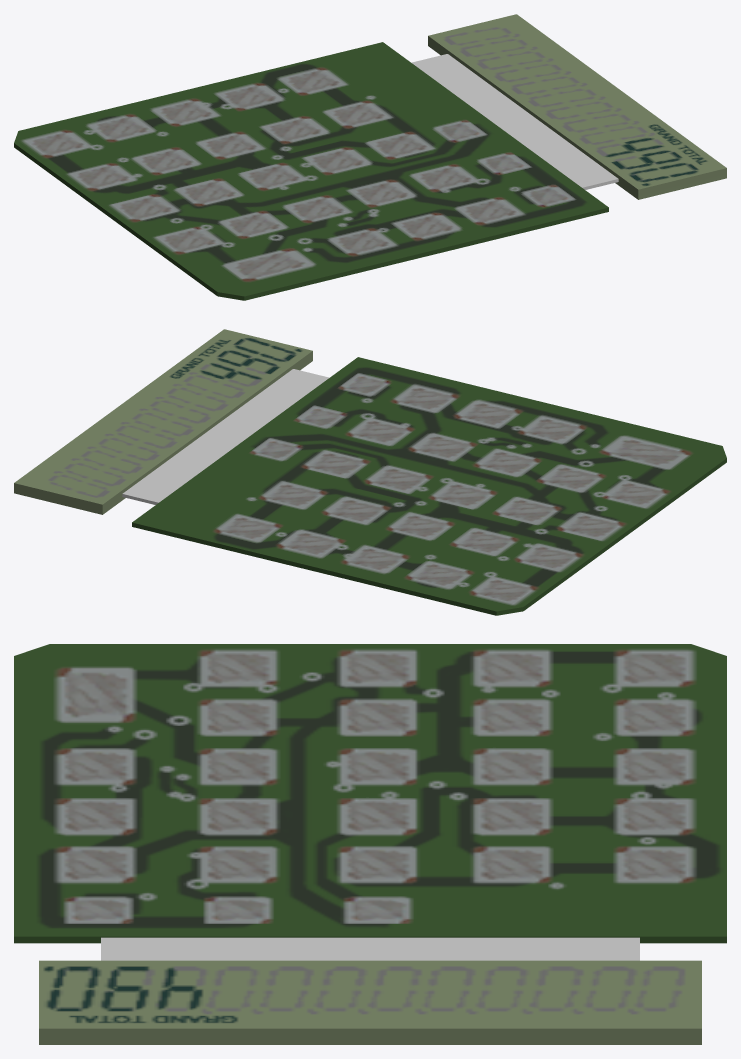
File: Calculator module.fbx
The picture shows the model from 3 angles, top to bottom: view 1: azimuth 30°, elevation 25°; view 2: azimuth 150°, elevation 25°; view 3: azimuth 270°, elevation 25°; orthographic projection. The views are drawn at different scales.
Parts seen in each view (by area): view 1: calculator_module; view 2: calculator_module; view 3: calculator_module.
Boxes of the visible parts, left/top/right/bottom form: calculator_module: left=14, top=14, right=726, bottom=300; calculator_module: left=14, top=329, right=726, bottom=615; calculator_module: left=14, top=644, right=726, bottom=1044.
Bounding box in the file's own units: 1.38 × 0.0268 × 1.07.
